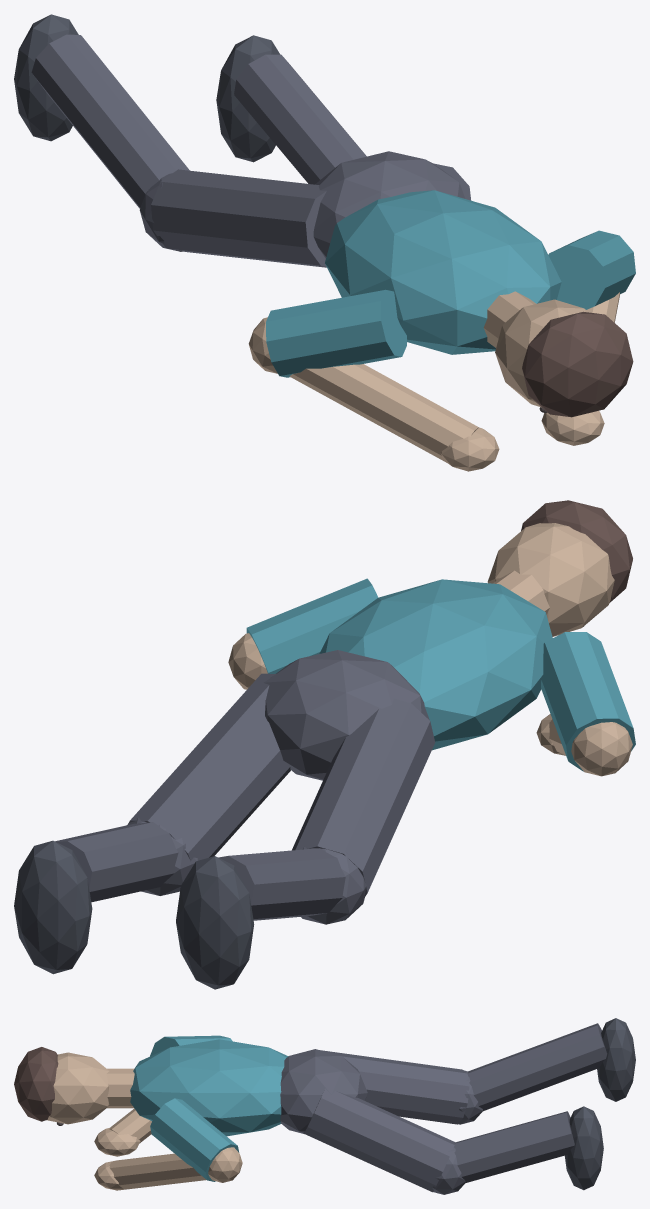
The picture shows the model from 3 angles, top to bottom: view 1: azimuth 30°, elevation 25°; view 2: azimuth 150°, elevation 25°; view 3: azimuth 270°, elevation 25°; orthographic projection. The views are drawn at different scales.
Parts seen in each view (by area): view 1: world; view 2: world; view 3: world.
Part boxes in pixels (left/top/right/bottom): world: left=14, top=14, right=635, bottom=471; world: left=14, top=500, right=635, bottom=989; world: left=14, top=1018, right=635, bottom=1194.
Bounding box in the file's own units: 0.93 × 0.4412 × 2.01.
